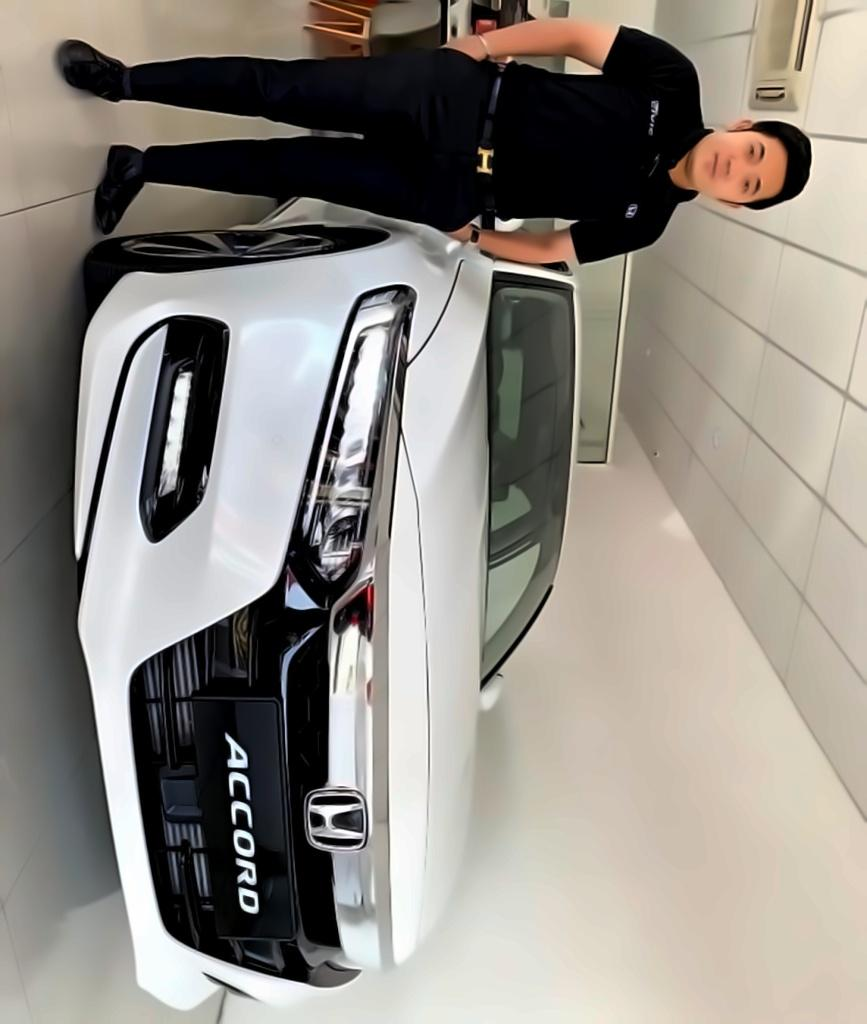Car hood: (377, 252, 494, 963)
Front bumper: (72, 259, 401, 1015)
Headlight - -R-: (289, 282, 417, 608)
